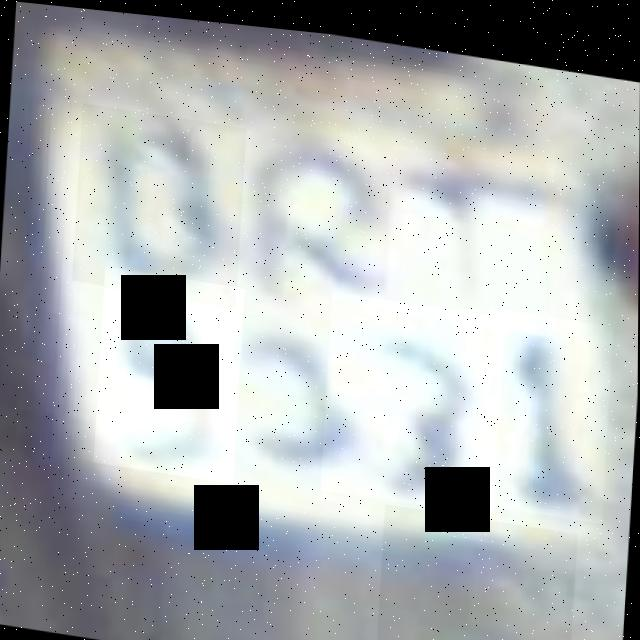0: (72, 101, 246, 303)
1: (478, 296, 614, 513)
3: (321, 283, 506, 507), (375, 494, 578, 640)
9: (94, 265, 246, 480)
N: (565, 135, 639, 320)
T: (385, 135, 555, 325)
